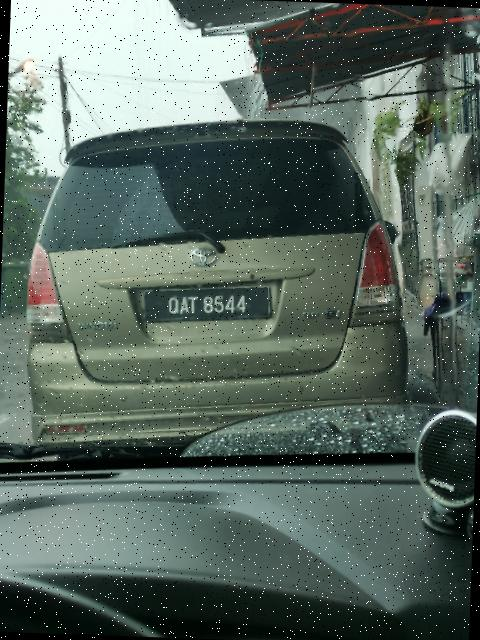License_Plate: (143, 283, 273, 328)
car: (15, 112, 425, 466)
